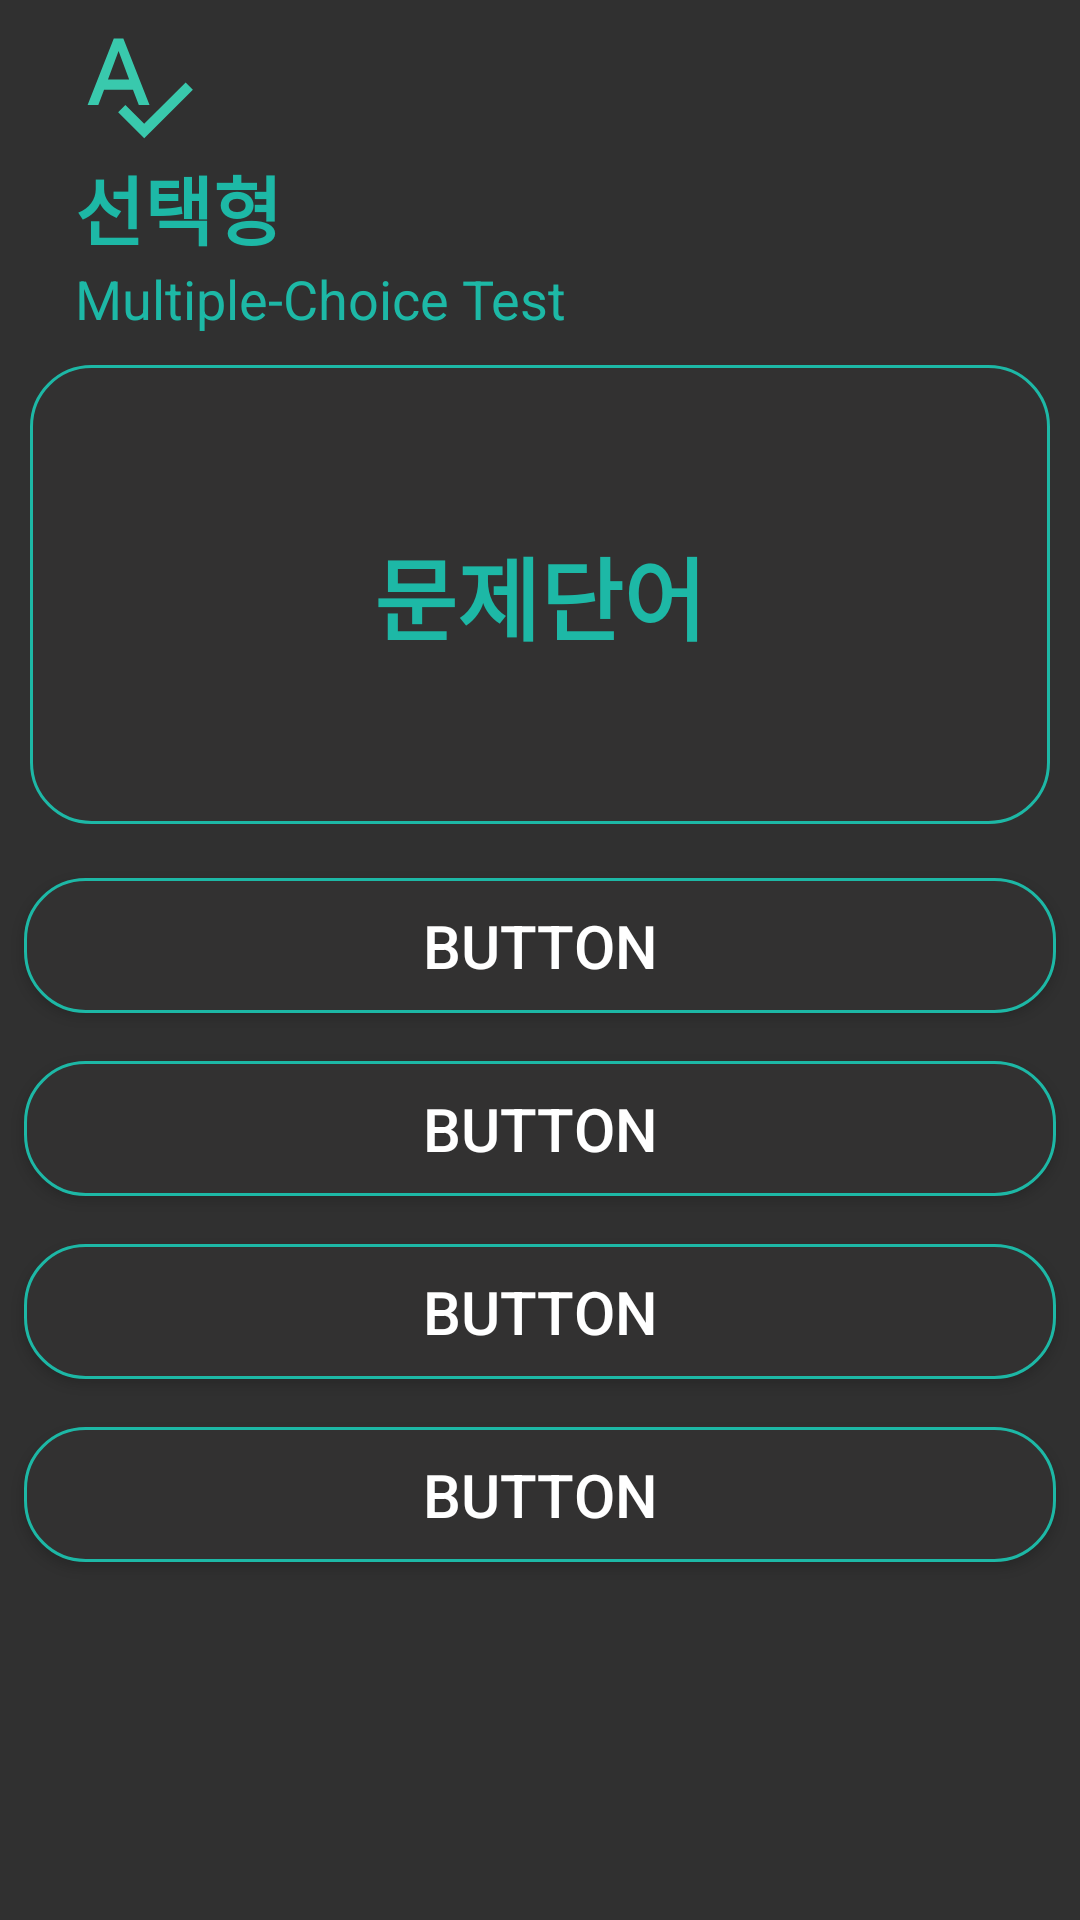

Screen size 1080 × 1920. Icon name, then its center in pixels as point (x, y):
spellcheck: point (140, 88)
